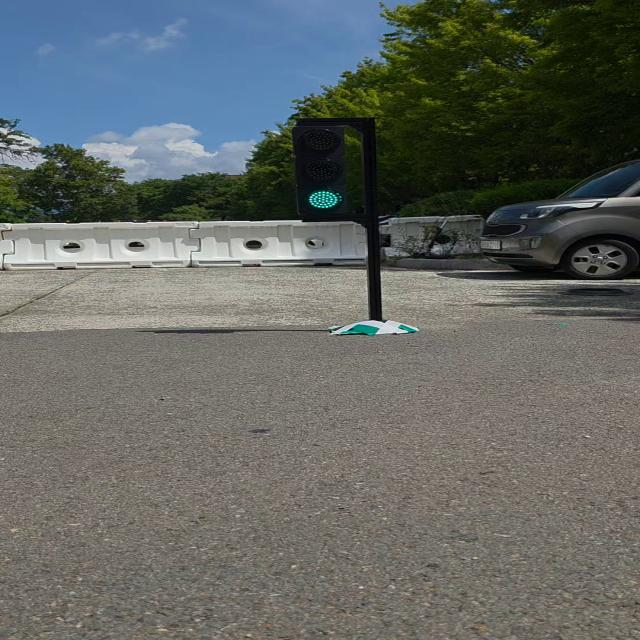green: (296, 126, 348, 222)
